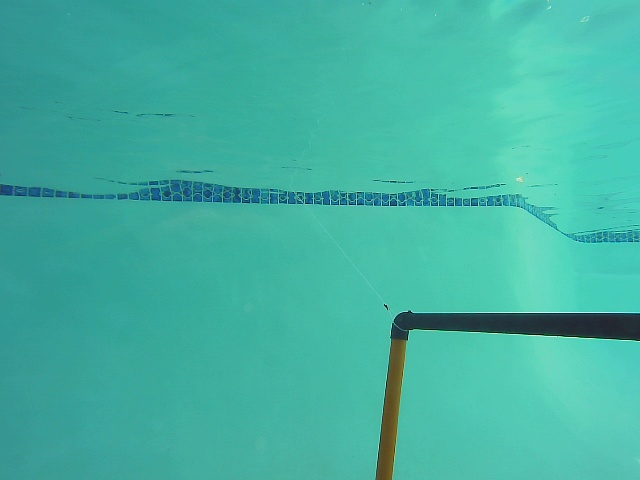Gate: (367, 333, 408, 480)
